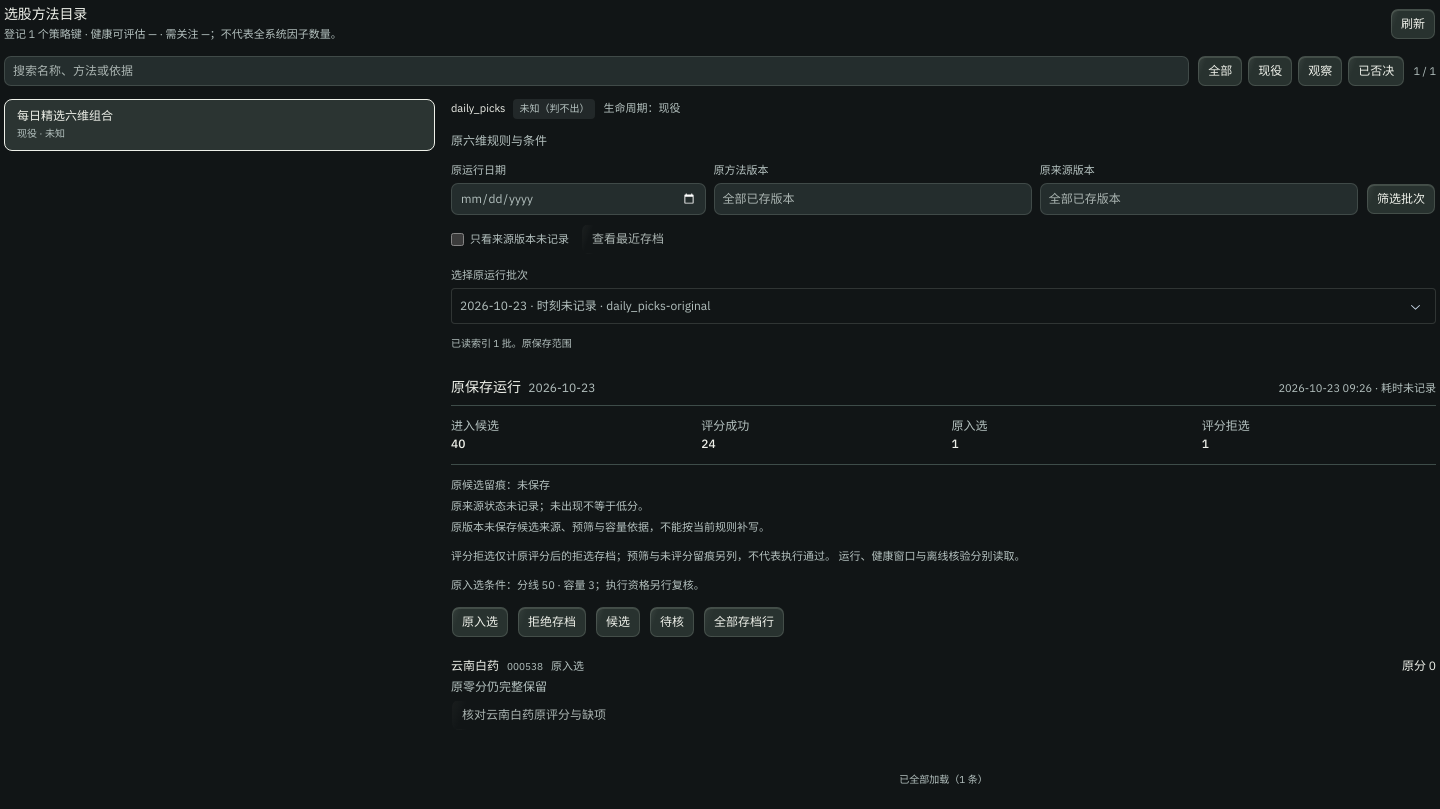
Scenario: 方法目录 · 保存运行与联动 › 真实0分、未知分数、耗时与分母保持原量纲，按需读拒因
Expected: the text "原分 0" is shown, [1402,658,1436,674]
Expected: the text "2026-10-23 09:26 · 耗时未记录" is shown, [1278,380,1436,397]
Click the button "拒绝存档": (552, 622) [517,606,587,638]
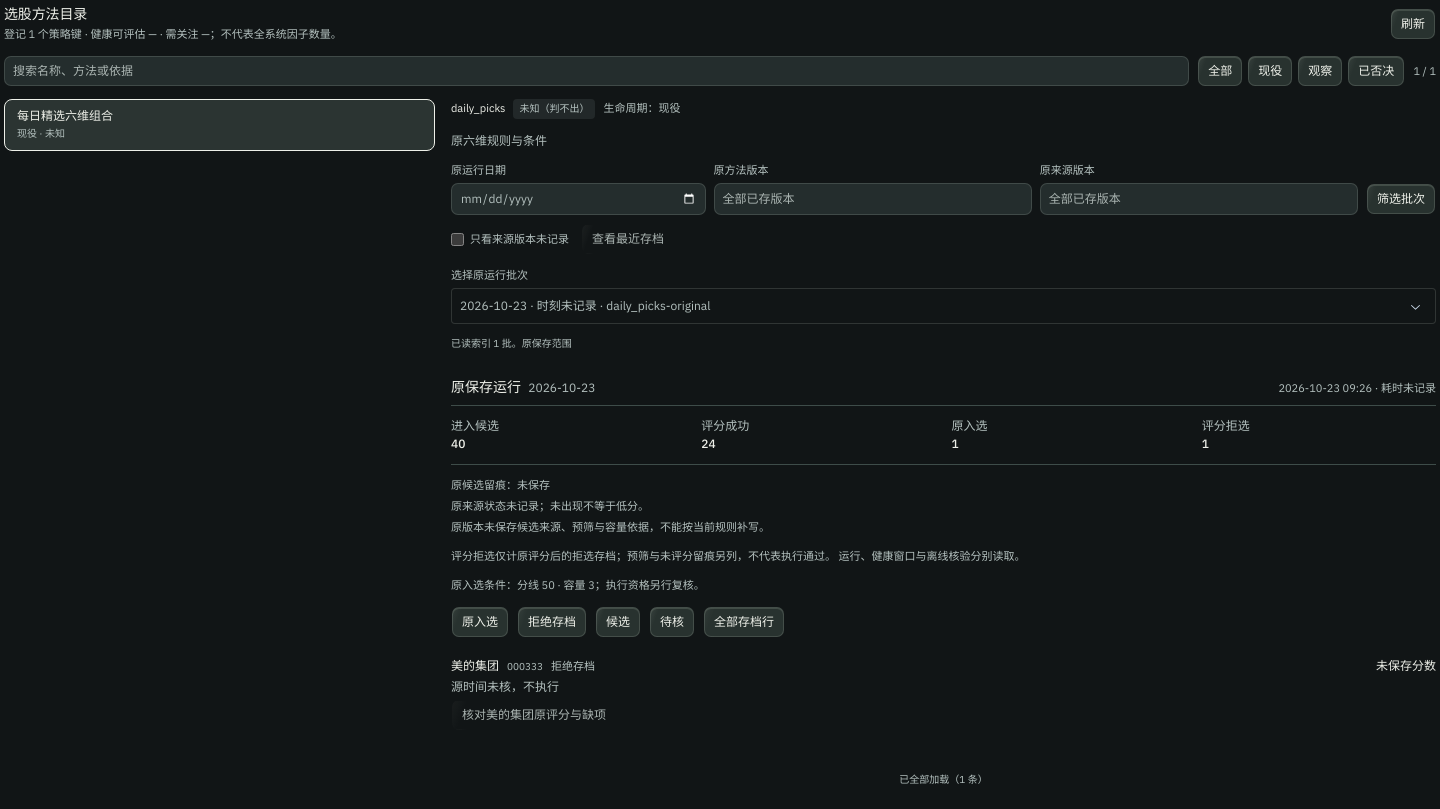
Now the link "美的集团" is shown, box [451,658,499,674]
Now the text "未保存分数" is shown, box [1376,658,1436,674]
Now the text "源时间未核，不执行" is shown, box [451,679,559,694]
